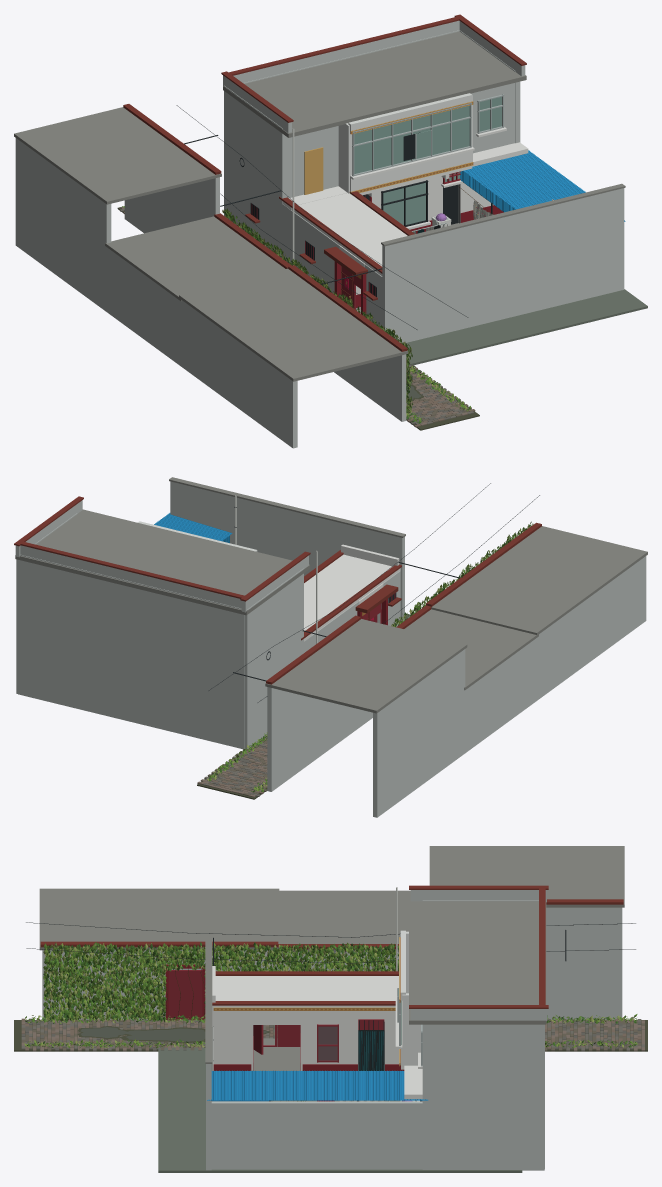
The model's file is house.glb.
The picture shows the model from 3 angles, top to bottom: view 1: azimuth 30°, elevation 25°; view 2: azimuth 150°, elevation 25°; view 3: azimuth 270°, elevation 25°; orthographic projection. The views are drawn at different scales.
Parts seen in each view (by area): view 1: V | mottled grey exterior render, V | flat concrete roof, V | aged white courtyard plaster, V | red coping, V | muted jade window glass, V | damp worn courtyard concrete, V | steel raised folds, V | blue corrugated steel, V | white rectangular balcony tiles, V | dark window frames, V | aluminum frames and drying rack, V | golden decorative trim (+5 smaller); view 2: V | mottled grey exterior render, V | flat concrete roof, V | red coping, V | aged white courtyard plaster, V | steel raised folds, V | blue corrugated steel, V | dark window frames, V | paving brick 0, V | paving brick 3, V | paving brick 4, V | paving brick 1, V | paving brick 2; view 3: V | mottled grey exterior render, V | flat concrete roof, V | aged white courtyard plaster, V | damp worn courtyard concrete, V | red coping, V | blue corrugated steel, V | leaf 1, V | leaf 2, V | leaf 4, V | leaf 0, V | leaf 3, V | steel raised folds (+15 smaller).
Part boxes in pixels (bbox=[...]): V | mottled grey exterior render: bbox=[15, 20, 624, 448]; V | flat concrete roof: bbox=[14, 31, 625, 381]; V | aged white courtyard plaster: bbox=[282, 127, 528, 294]; V | red coping: bbox=[123, 14, 526, 351]; V | muted jade window glass: bbox=[354, 96, 501, 225]; V | damp worn courtyard concrete: bbox=[405, 289, 647, 365]; V | steel raised folds: bbox=[460, 150, 624, 220]; V | blue corrugated steel: bbox=[462, 150, 625, 221]; V | white rectangular balcony tiles: bbox=[338, 93, 472, 193]; V | dark window frames: bbox=[176, 105, 503, 329]; V | aluminum frames and drying rack: bbox=[280, 94, 504, 255]; V | golden decorative trim: bbox=[304, 101, 479, 297]; V | mottled grey exterior render: bbox=[15, 481, 646, 817]; V | flat concrete roof: bbox=[15, 477, 647, 713]; V | red coping: bbox=[14, 496, 541, 684]; V | aged white courtyard plaster: bbox=[304, 544, 400, 641]; V | steel raised folds: bbox=[154, 513, 231, 543]; V | blue corrugated steel: bbox=[155, 513, 231, 542]; V | dark window frames: bbox=[208, 483, 539, 702]; V | paving brick 0: bbox=[207, 736, 267, 795]; V | paving brick 3: bbox=[197, 738, 267, 797]; V | paving brick 4: bbox=[212, 742, 267, 794]; V | paving brick 1: bbox=[211, 746, 267, 794]; V | paving brick 2: bbox=[203, 737, 267, 796]; V | mottled grey exterior render: bbox=[42, 890, 622, 1170]; V | flat concrete roof: bbox=[39, 846, 624, 1101]; V | aged white courtyard plaster: bbox=[212, 966, 422, 1101]; V | damp worn courtyard concrete: bbox=[158, 1047, 522, 1172]; V | red coping: bbox=[40, 885, 623, 1008]; V | blue corrugated steel: bbox=[207, 1071, 428, 1101]; V | leaf 1: bbox=[25, 942, 637, 1047]; V | leaf 2: bbox=[24, 942, 637, 1101]; V | leaf 4: bbox=[25, 942, 635, 1101]; V | leaf 0: bbox=[26, 942, 637, 1047]; V | leaf 3: bbox=[25, 942, 636, 1101]; V | steel raised folds: bbox=[208, 1070, 426, 1100].
Size of the model in its own units: 21.2 by 7.74 by 27.
